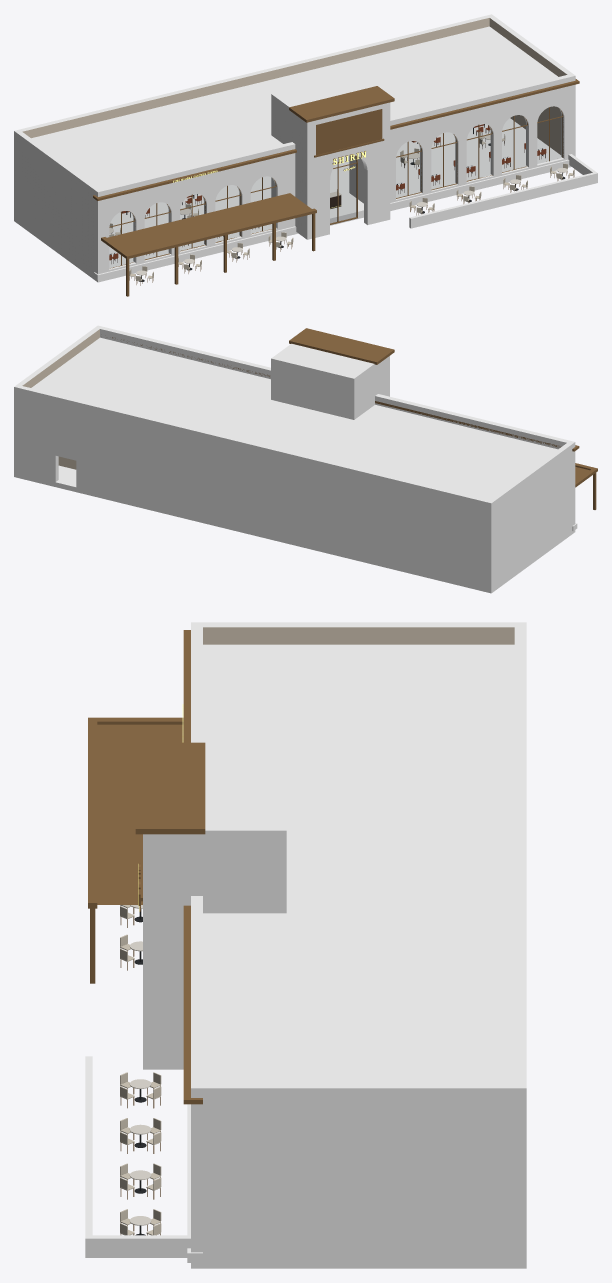
Rendered from shirin_restaurant_lod0.glb.
3 renders of one model, top to bottom at view 1: azimuth 30°, elevation 25°; view 2: azimuth 150°, elevation 25°; view 3: azimuth 270°, elevation 25°, orthographic. The views are drawn at different scales.
Visible parts, largest first — view 1: P08_LOD0_BUILDING_EXTERIOR_Stone, P08_LOD0_BUILDING_EXTERIOR_Roof, P08_LOD0_BUILDING_INTERIOR_GroundSlab, P08_LOD0_FACADE_DETAILS_Terrace, P08_LOD0_GLASS_SYSTEM_ArchesGlass, P08_LOD0_FACADE_DETAILS_Bronze, P08_LOD0_FACADE_DETAILS_Screen, P08_LOD0_FURNITURE_Dining, P08_LOD0_FURNITURE_Terrace, P08_LOD0_GLASS_SYSTEM_ArchesFrame, P08_LOD0_GLASS_SYSTEM_PortalGlass; view 2: P08_LOD0_BUILDING_EXTERIOR_Stone, P08_LOD0_BUILDING_EXTERIOR_Roof, P08_LOD0_BUILDING_INTERIOR_GroundSlab, P08_LOD0_FACADE_DETAILS_Bronze, P08_LOD0_FACADE_DETAILS_Terrace; view 3: P08_LOD0_BUILDING_EXTERIOR_Roof, P08_LOD0_BUILDING_EXTERIOR_Stone, P08_LOD0_FACADE_DETAILS_Terrace, P08_LOD0_FACADE_DETAILS_Bronze, P08_LOD0_FURNITURE_Terrace, P08_LOD0_BUILDING_INTERIOR_GroundSlab.
Part boxes in pixels (x1,y1,x2,y2): P08_LOD0_BUILDING_EXTERIOR_Stone: (14, 14, 576, 279); P08_LOD0_BUILDING_EXTERIOR_Roof: (14, 26, 575, 205); P08_LOD0_BUILDING_INTERIOR_GroundSlab: (14, 118, 571, 282); P08_LOD0_FACADE_DETAILS_Terrace: (101, 154, 597, 296); P08_LOD0_GLASS_SYSTEM_ArchesGlass: (110, 107, 562, 267); P08_LOD0_FACADE_DETAILS_Bronze: (93, 79, 579, 200); P08_LOD0_FACADE_DETAILS_Screen: (316, 109, 382, 155); P08_LOD0_FURNITURE_Dining: (109, 123, 546, 263); P08_LOD0_FURNITURE_Terrace: (129, 163, 574, 285); P08_LOD0_GLASS_SYSTEM_ArchesFrame: (109, 107, 563, 268); P08_LOD0_GLASS_SYSTEM_PortalGlass: (330, 156, 355, 222); P08_LOD0_BUILDING_EXTERIOR_Stone: (14, 325, 577, 590); P08_LOD0_BUILDING_EXTERIOR_Roof: (14, 337, 575, 514); P08_LOD0_BUILDING_INTERIOR_GroundSlab: (14, 465, 575, 593); P08_LOD0_FACADE_DETAILS_Bronze: (112, 328, 579, 451); P08_LOD0_FACADE_DETAILS_Terrace: (575, 463, 597, 509); P08_LOD0_BUILDING_EXTERIOR_Roof: (191, 644, 526, 1116); P08_LOD0_BUILDING_EXTERIOR_Stone: (143, 622, 526, 1262); P08_LOD0_FACADE_DETAILS_Terrace: (85, 717, 190, 1257); P08_LOD0_FACADE_DETAILS_Bronze: (135, 630, 205, 1104); P08_LOD0_FURNITURE_Terrace: (120, 905, 161, 1235); P08_LOD0_BUILDING_INTERIOR_GroundSlab: (191, 1259, 526, 1268).
Size of the model in its own units: 46.4 by 11.5 by 18.4.
